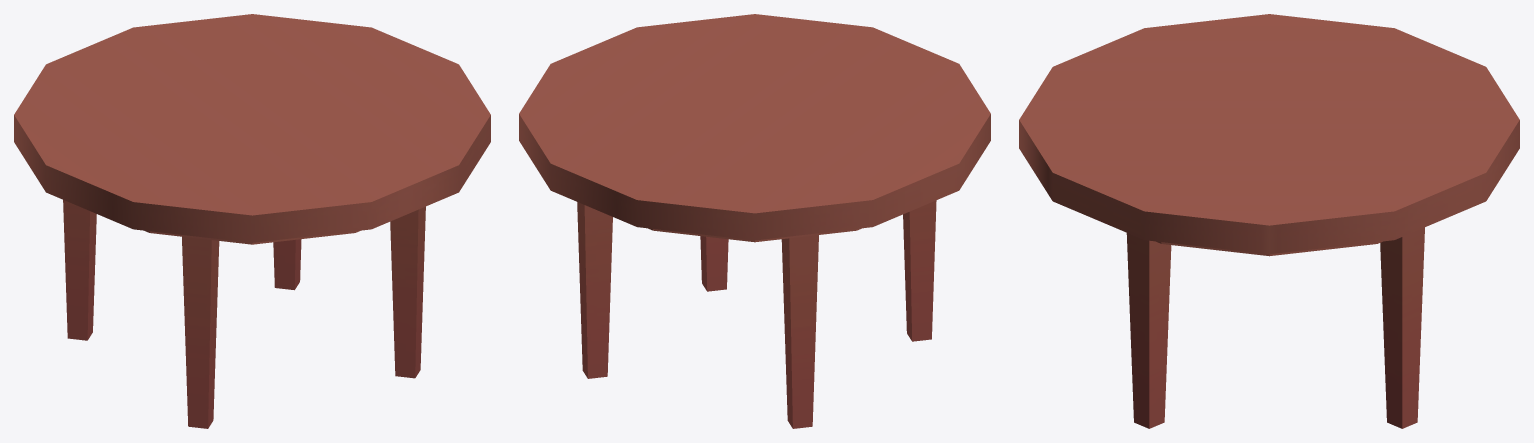
File: SM_Table_Rounded_1_04.fbx
The picture shows the model from 3 angles, left to right: view 1: azimuth 30°, elevation 25°; view 2: azimuth 150°, elevation 25°; view 3: azimuth 270°, elevation 25°; orthographic projection. The views are drawn at different scales.
Parts seen in each view (by area): view 1: SM_Table_Rounded_1_04; view 2: SM_Table_Rounded_1_04; view 3: SM_Table_Rounded_1_04.
Part boxes in pixels (box(x1,y1,x2,y2)): SM_Table_Rounded_1_04: box(14, 14, 490, 428); SM_Table_Rounded_1_04: box(519, 14, 990, 428); SM_Table_Rounded_1_04: box(1019, 14, 1519, 428).
Size of the model in its own units: 182 by 101 by 182.
